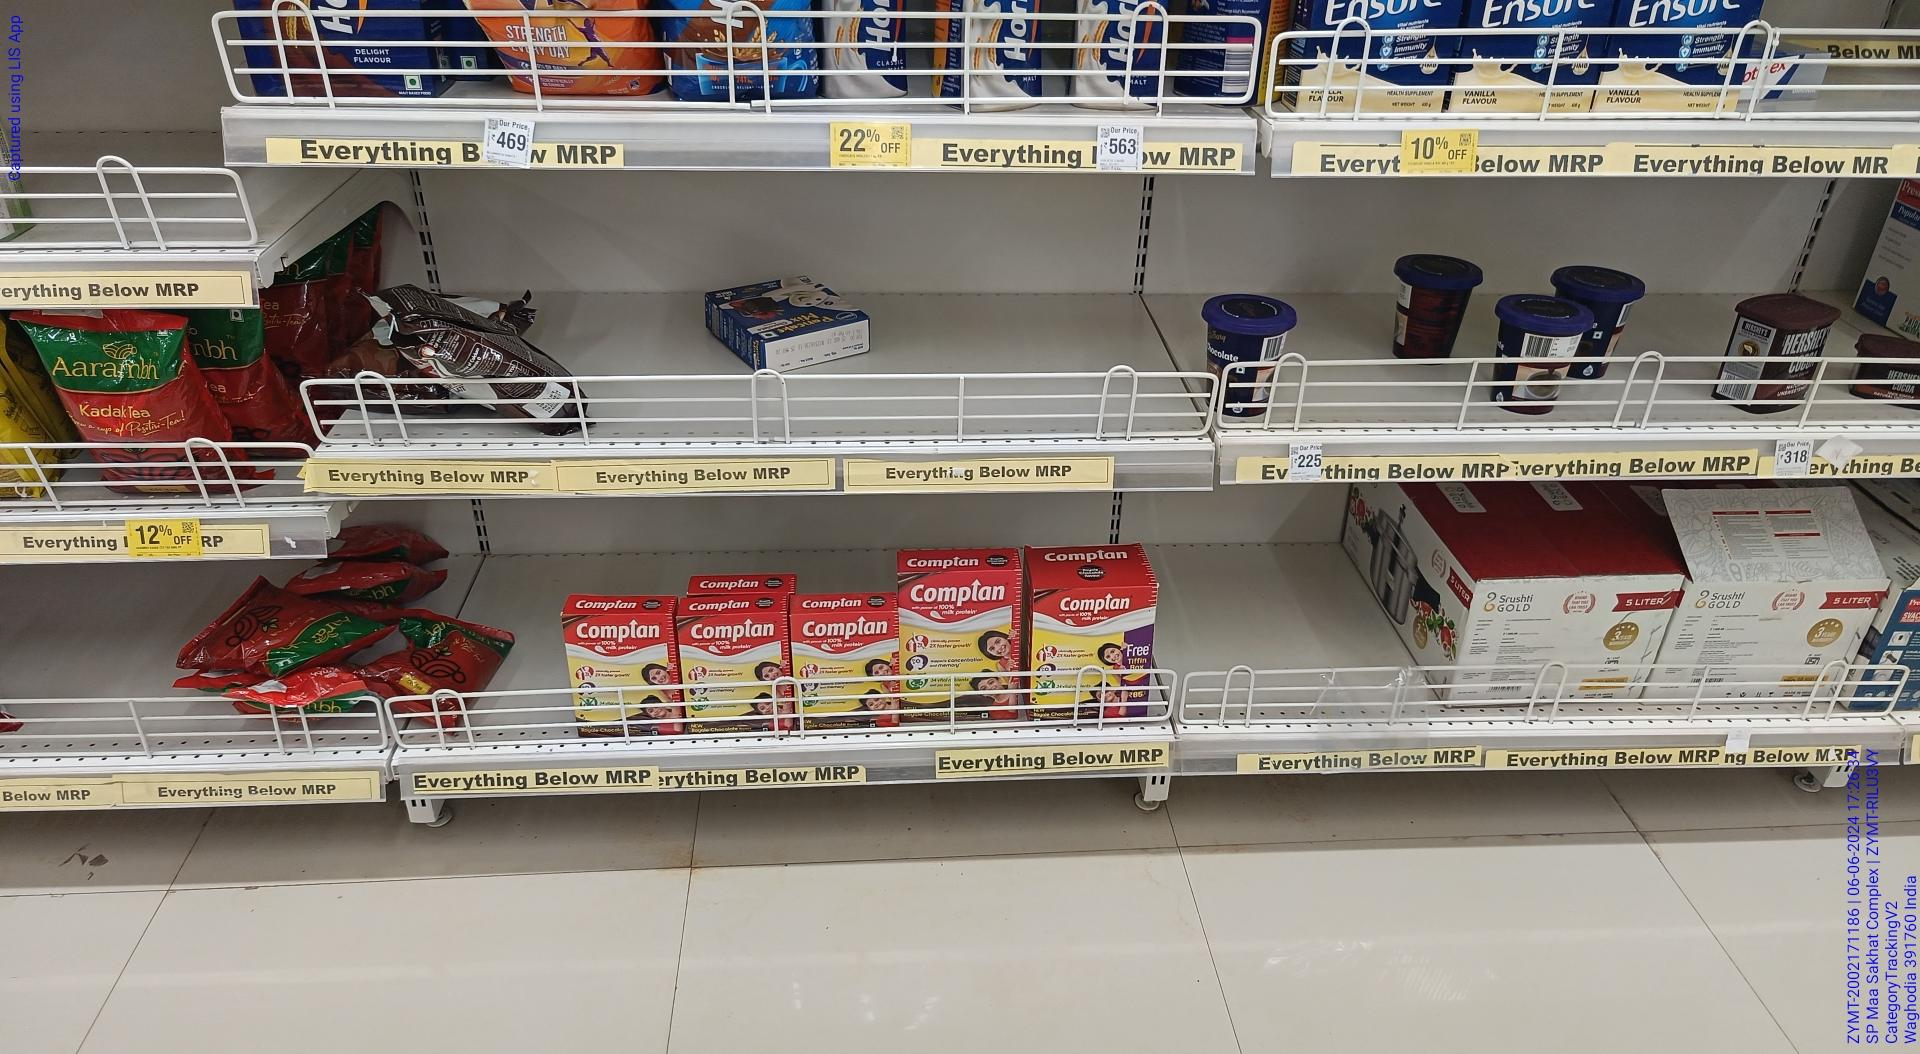COMPLAN_CHOCOLATE_1_KG_PACK: (899, 569, 1017, 720), (1033, 587, 1152, 723)
COMPLAN_CHOCOLATE_500_GMS_PACK: (560, 610, 673, 737), (678, 615, 789, 735), (790, 610, 894, 729)
